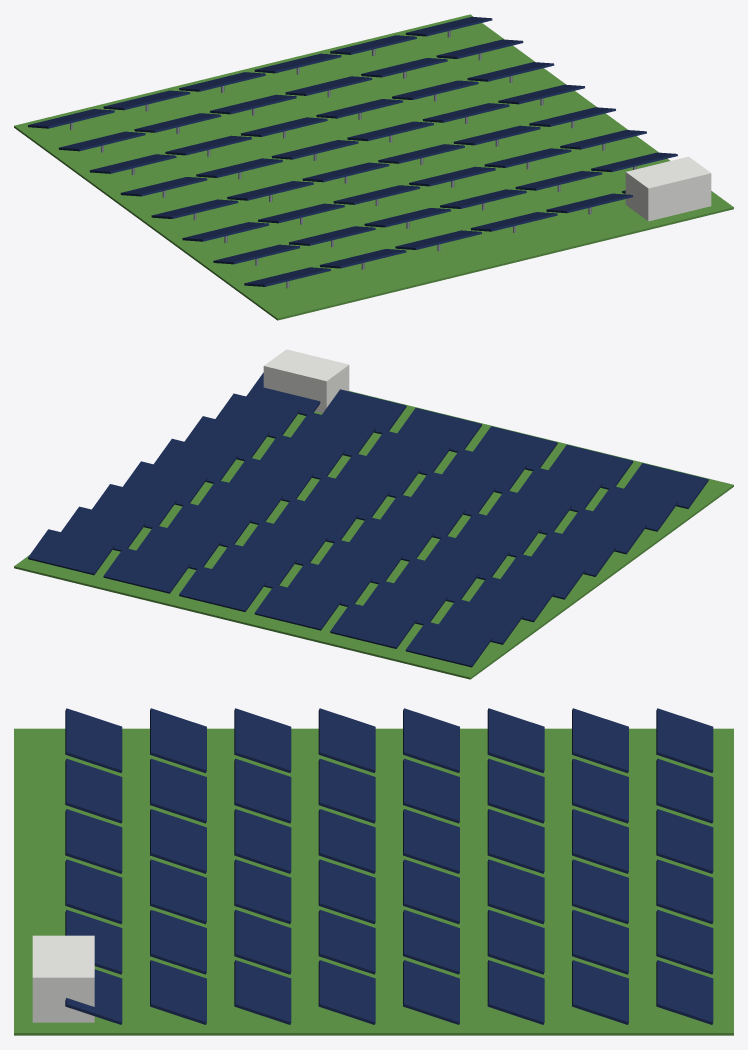
Rendered from building_ladang_solar.glb.
3 renders of one model, top to bottom at view 1: azimuth 30°, elevation 25°; view 2: azimuth 150°, elevation 25°; view 3: azimuth 270°, elevation 25°, orthographic. The views are drawn at different scales.
Parts seen in each view (by area): view 1: building_ladang_solar; view 2: building_ladang_solar; view 3: building_ladang_solar.
Boxes of the visible parts, <box> form: building_ladang_solar: <box>14,14,733,320</box>; building_ladang_solar: <box>14,349,733,679</box>; building_ladang_solar: <box>14,708,733,1035</box>.
Bounding box in the file's own units: 2.9 × 0.212 × 2.9.
